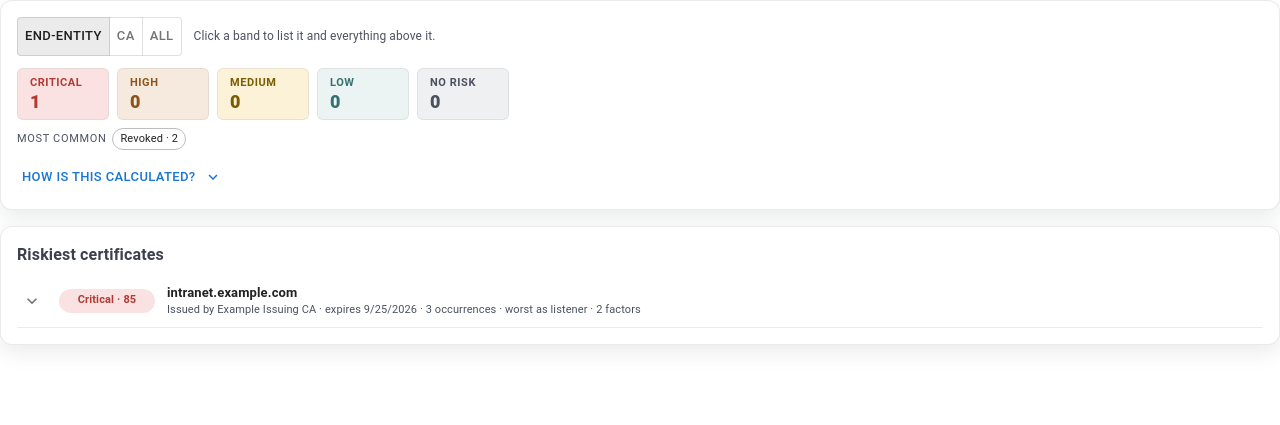
Test case: CdpRiskPanel · lista y factores › sin pesos en la respuesta no se inventan: se dice
Click the button "How is this calculated?" at (121, 177), box 17,162 -> 225,193
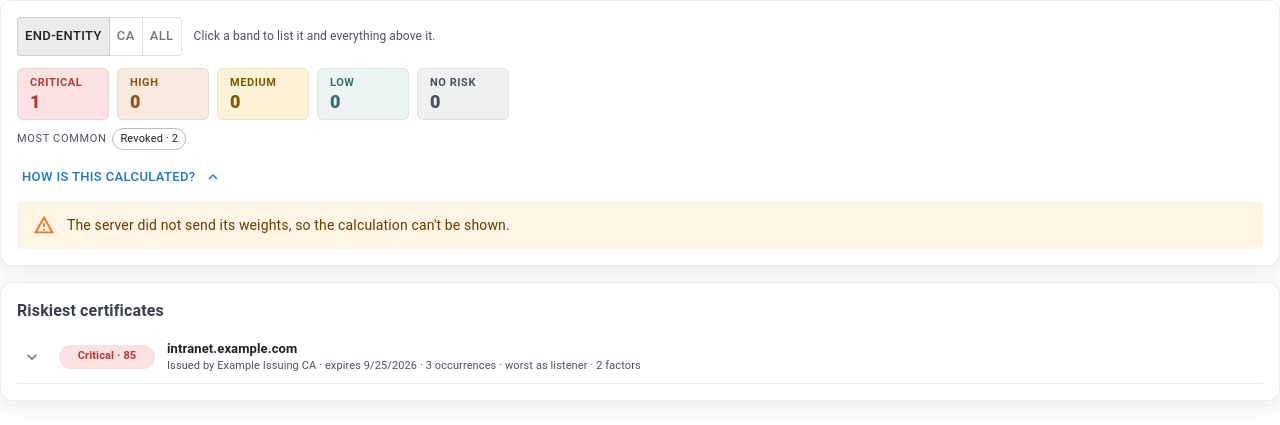
Expected: the text "did not send its weights" is shown, 67,217 -> 510,233
